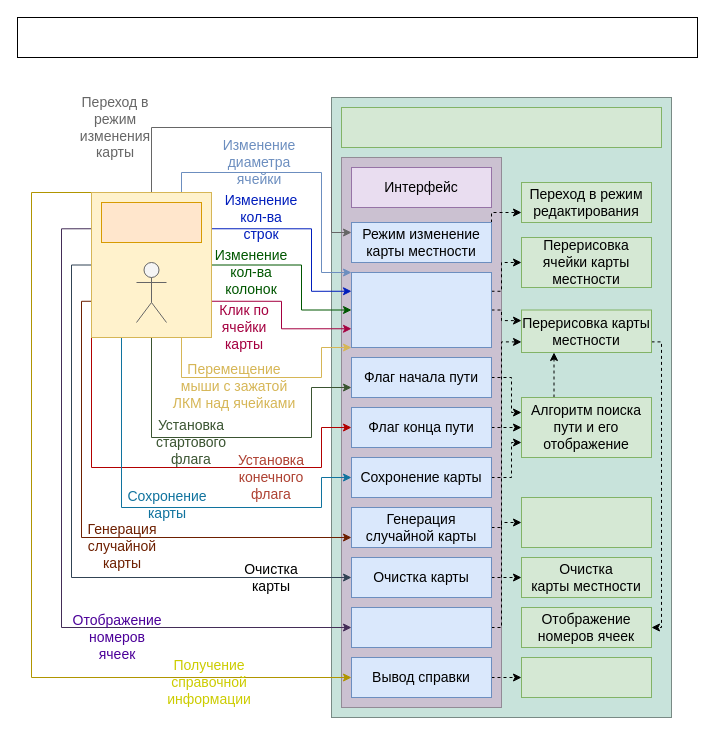
Image size: 715x735. Some labels were removed from this diagram. Here are the shapes that lost their labels. From the top down, the centre of each, then its label:
the point at 357,37: Диаграмма системы планирования движения наземного робота
the point at 501,127: Система
the point at 151,222: Клиент
the point at 421,310: Изменение параметров карты
the point at 586,522: Случайное заполнение карты местности
the point at 421,627: Зажатие Shift
the point at 586,677: Вывод справочной информации
